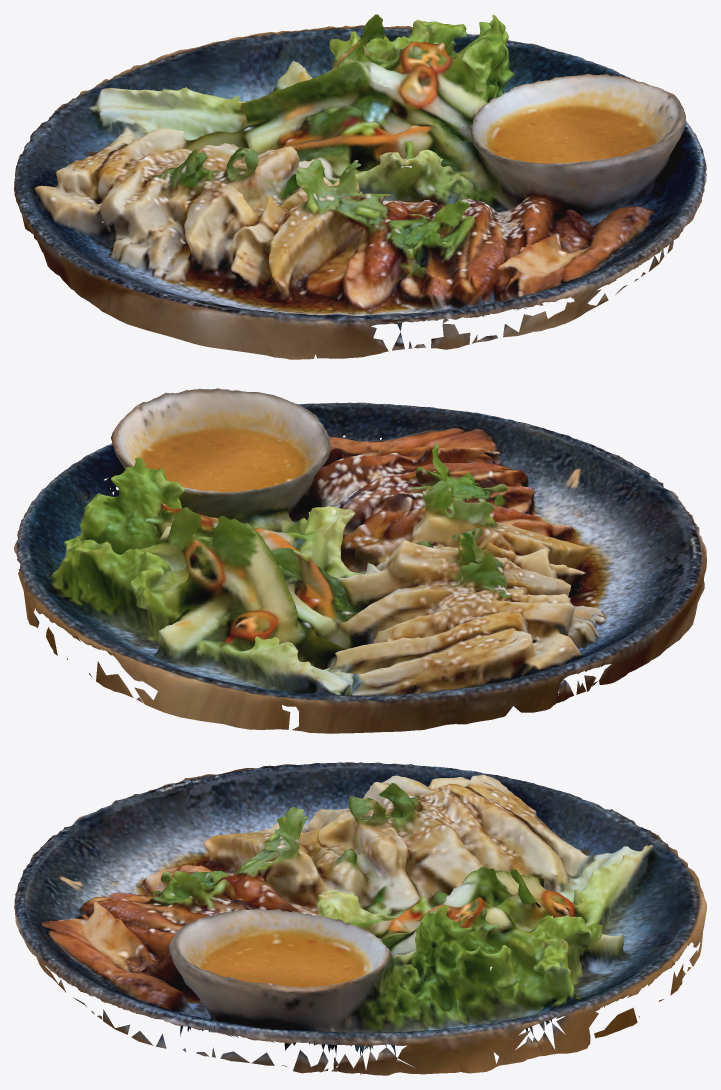
The model's file is vegan_hainanese_chicken_rice_scaniverse.glb.
3 renders of one model, top to bottom at view 1: azimuth 30°, elevation 25°; view 2: azimuth 150°, elevation 25°; view 3: azimuth 270°, elevation 25°, orthographic.
Parts seen in each view (by area): view 1: mesh_main_0 (×2); view 2: mesh_main_0 (×2); view 3: mesh_main_0 (×2).
Boxes of the visible parts, x1,y1,x2,y2 form: mesh_main_0 (×2): [14, 14, 706, 359]; mesh_main_0 (×2): [14, 388, 706, 733]; mesh_main_0 (×2): [14, 762, 706, 1075].
Bounding box in the file's own units: 0.2688 × 0.0539 × 0.2711.
Materials: 1 (1 with a texture image).
